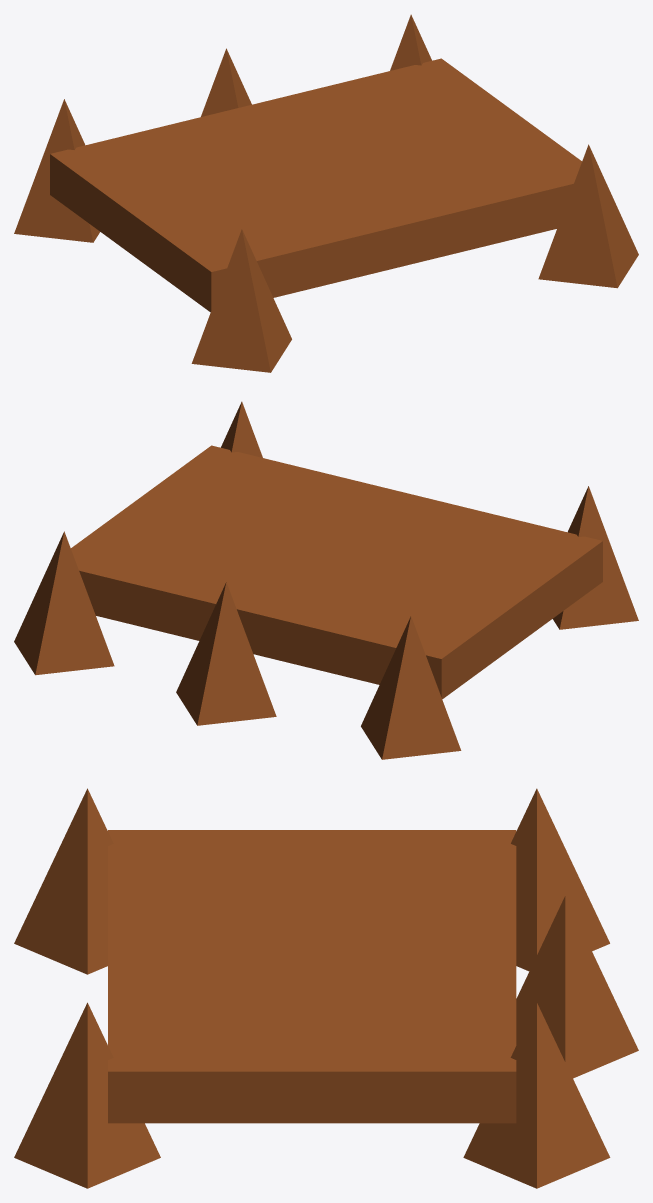
File: boar_leather.obj
The picture shows the model from 3 angles, top to bottom: view 1: azimuth 30°, elevation 25°; view 2: azimuth 150°, elevation 25°; view 3: azimuth 270°, elevation 25°; orthographic projection. The views are drawn at different scales.
Parts seen in each view (by area): view 1: models/items/boar_leather.obj; view 2: models/items/boar_leather.obj; view 3: models/items/boar_leather.obj.
Boxes of the visible parts, bbox=[...] form: models/items/boar_leather.obj: bbox=[14, 14, 638, 372]; models/items/boar_leather.obj: bbox=[14, 401, 638, 759]; models/items/boar_leather.obj: bbox=[14, 788, 638, 1188].
Size of the model in its own units: 1.6 by 0.42 by 1.53.
